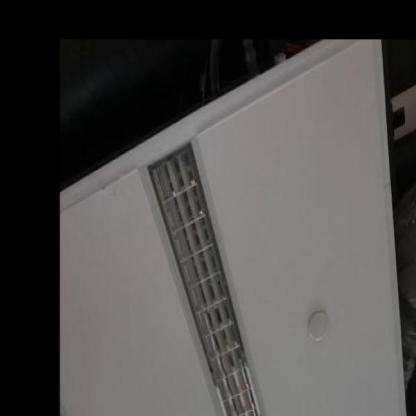light_off: (131, 123, 270, 415)
